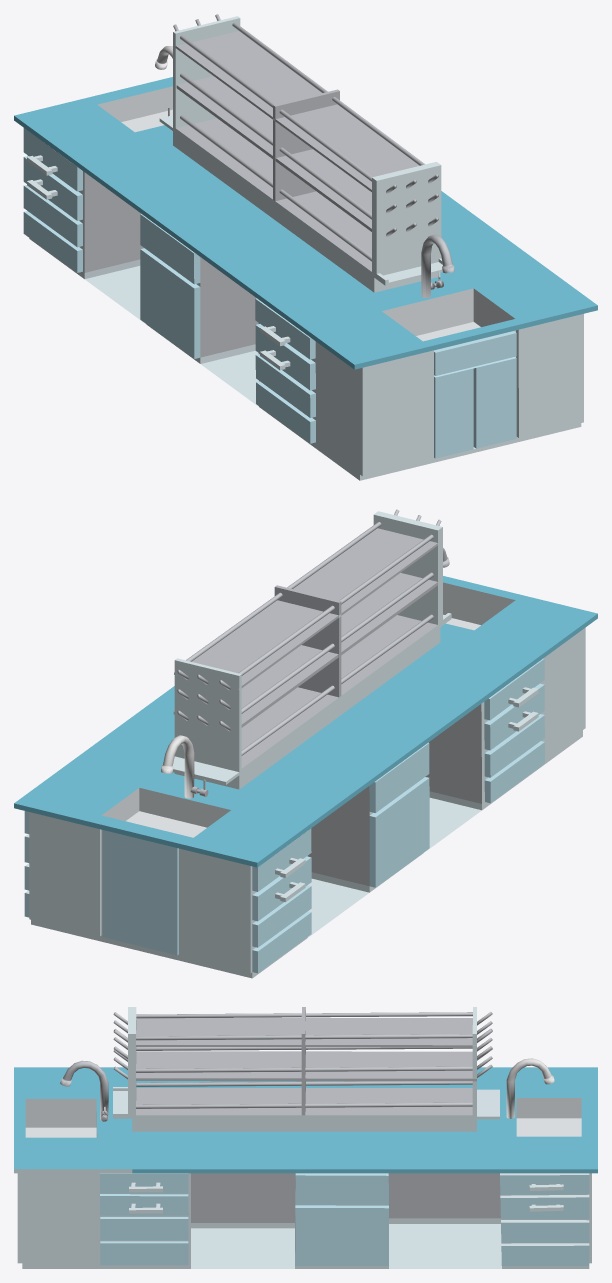
The model's file is MejaUtama.fbx.
3 renders of one model, top to bottom at view 1: azimuth 30°, elevation 25°; view 2: azimuth 150°, elevation 25°; view 3: azimuth 270°, elevation 25°, orthographic. The views are drawn at different scales.
Parts seen in each view (by area): view 1: Cube.001; view 2: Cube.001; view 3: Cube.001.
Boxes of the visible parts, x1=… form: Cube.001: x1=14, y1=14, x2=597, y2=480; Cube.001: x1=14, y1=509, x2=597, y2=978; Cube.001: x1=14, y1=1007, x2=597, y2=1268.
Bounding box in the file's own units: 234 × 203 × 532.
